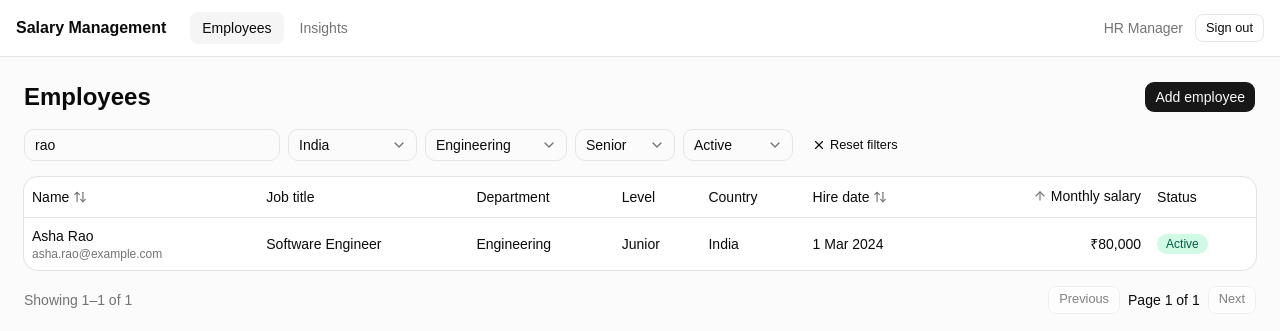
Test case: employee list › clears the search and every filter with one click, keeping the sort order
The image size is (1280, 331).
Expected: the link "Asha Rao" is shown, [32,228,94,244]
Click the button "Reset filters" at (855, 145), box [801,131,909,159]
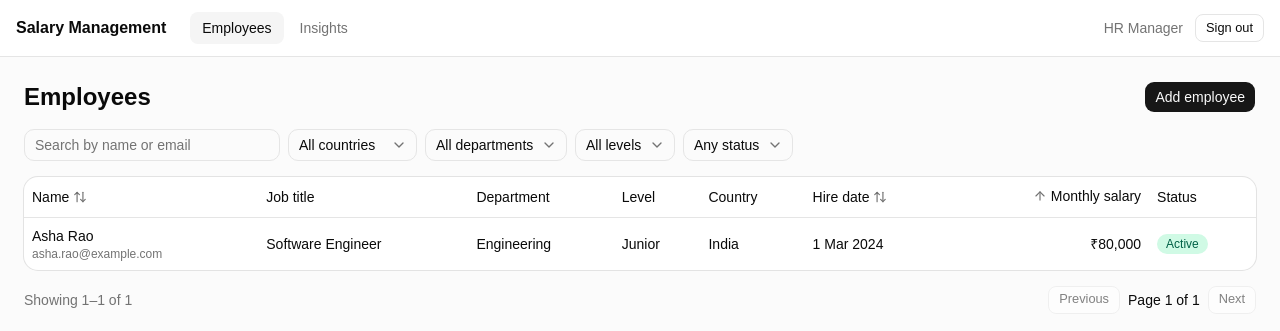
Result: the search field is empty at [24,129,280,161]
Result: the dropdown named "Country" shows "All countries" at [288,129,417,161]
Result: the button "Reset filters" is gone
